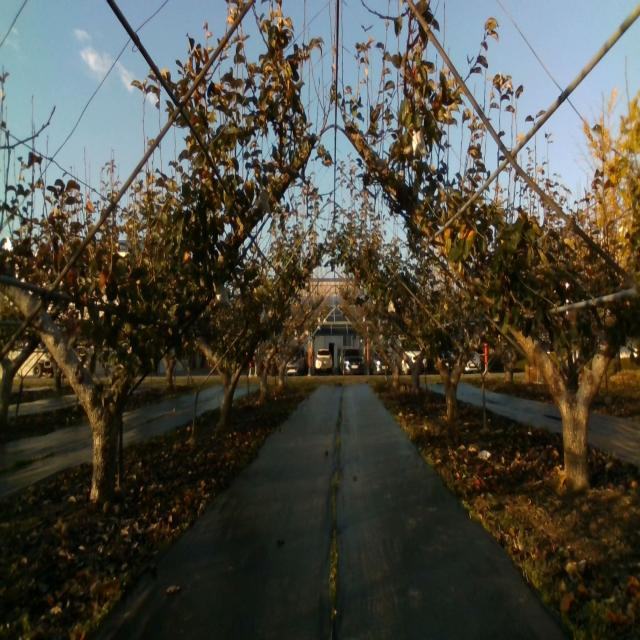pearbags: (412, 129, 428, 157), (252, 190, 270, 212), (213, 284, 230, 307)
